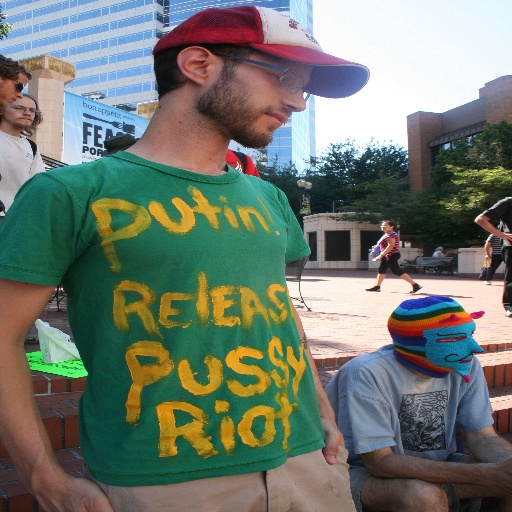hand: (7, 406, 97, 509), (320, 414, 347, 466), (495, 456, 511, 492), (503, 233, 511, 245), (484, 254, 491, 261)
